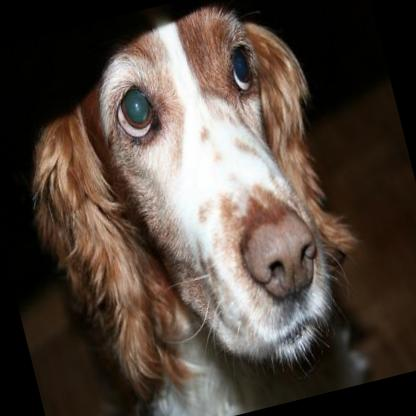Welsh_springer_spaniel: (0, 0, 389, 416)
